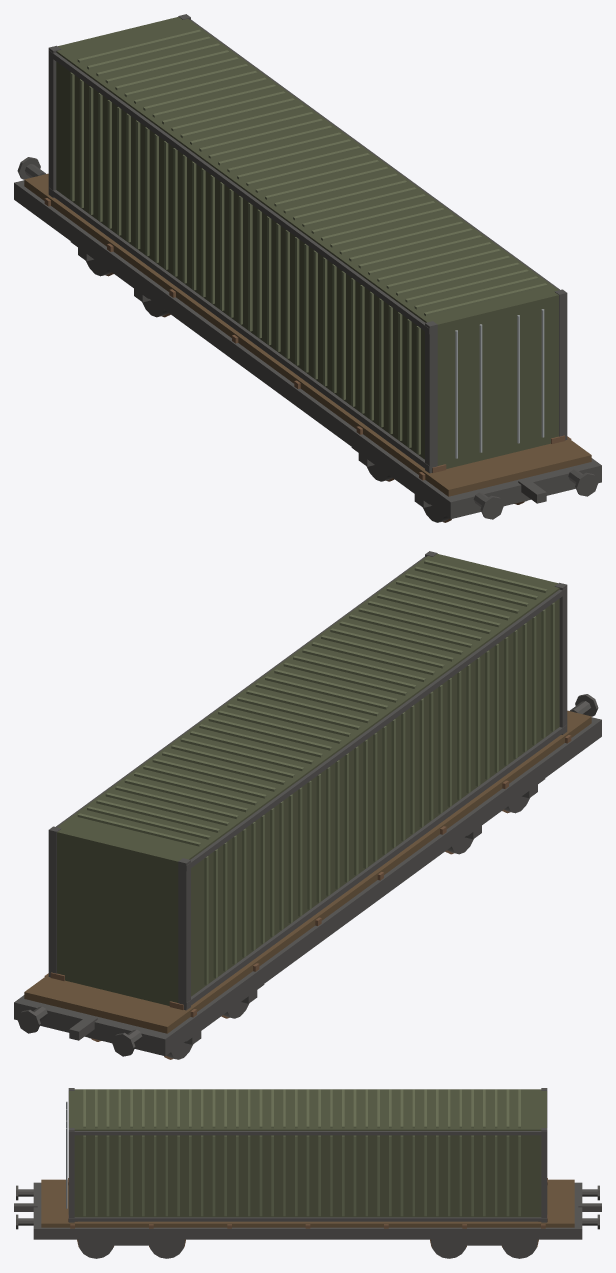
File: Scenery_RailContainerWagon.fbx
3 renders of one model, top to bottom at view 1: azimuth 30°, elevation 25°; view 2: azimuth 150°, elevation 25°; view 3: azimuth 270°, elevation 25°, orthographic. The views are drawn at different scales.
Visible parts, largest first — view 1: Scenery_RailContainerWagon_LOD0; view 2: Scenery_RailContainerWagon_LOD0; view 3: Scenery_RailContainerWagon_LOD0.
Part boxes in pixels (box(x1,y1,x2,y2)): Scenery_RailContainerWagon_LOD0: box(14, 14, 601, 522); Scenery_RailContainerWagon_LOD0: box(14, 551, 601, 1059); Scenery_RailContainerWagon_LOD0: box(14, 1088, 601, 1258).
Size of what is drawn, in the model's own units: 2.8 by 3.89 by 15.
